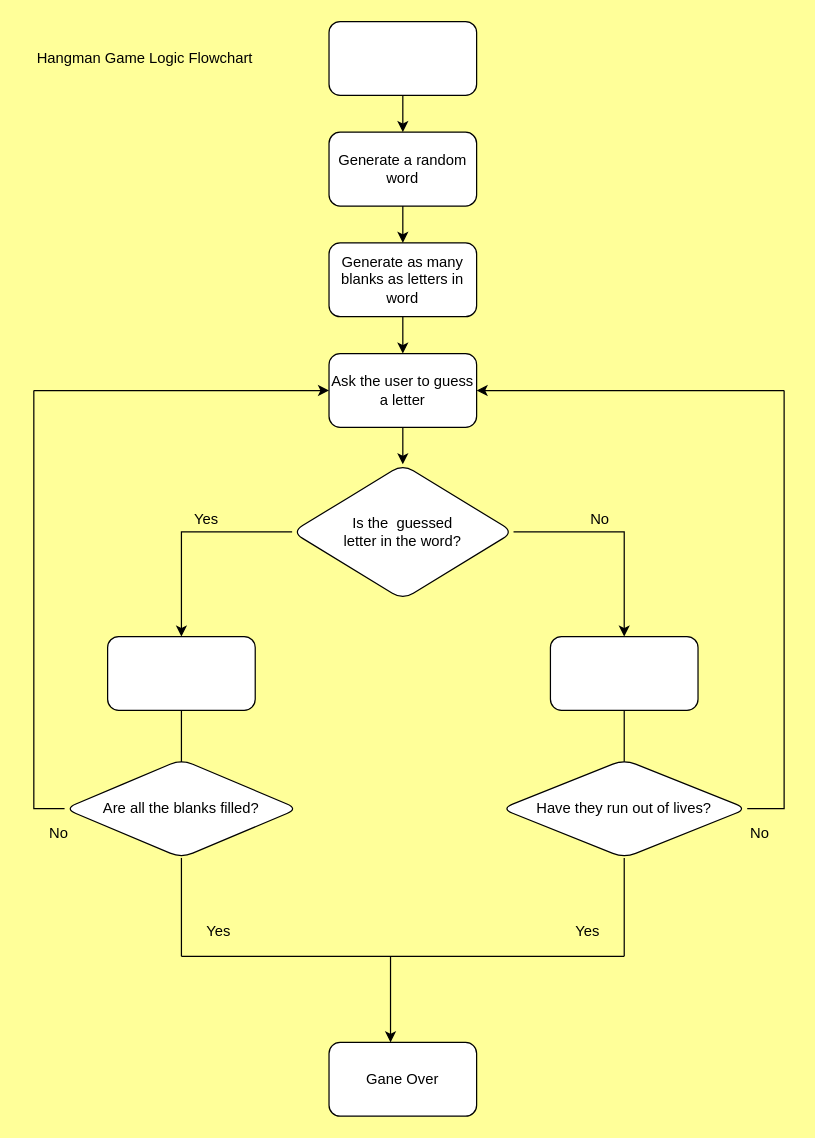
The diagram is 815 pixels wide and 1138 high, and some of its shapes have lost their labels. Here are the shapes that lost their labels. From the top down, the centre of each, then its label:
At [402,57]: "START".
At [180,672]: "Replace the blank with the letter".
At [623,672]: "Lose a life".
